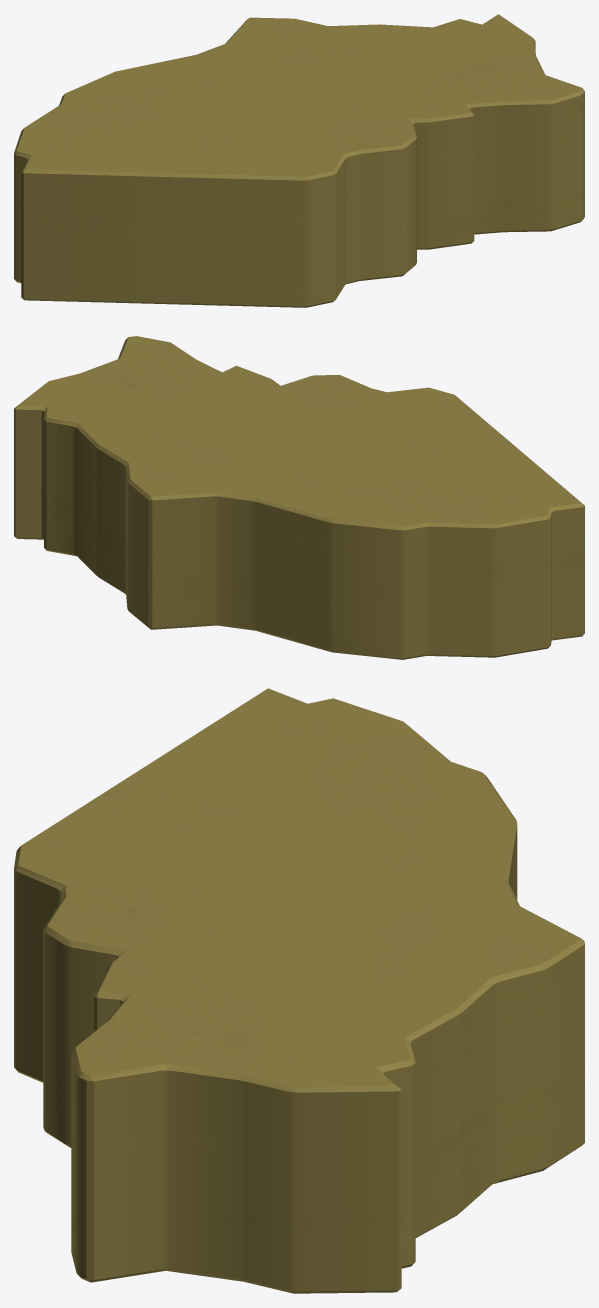
The model's file is morocco.DAE.
3 renders of one model, top to bottom at view 1: azimuth 30°, elevation 25°; view 2: azimuth 150°, elevation 25°; view 3: azimuth 270°, elevation 25°, orthographic. The views are drawn at different scales.
Parts seen in each view (by area): view 1: Morocco; view 2: Morocco; view 3: Morocco.
Boxes of the visible parts, box(x1,y1,x2,y2) form: Morocco: box(14, 14, 584, 307); Morocco: box(14, 336, 584, 659); Morocco: box(14, 688, 584, 1293).
Size of the model in its own units: 104 by 62.48 by 25.
Materials: 1 (1 with a texture image).
